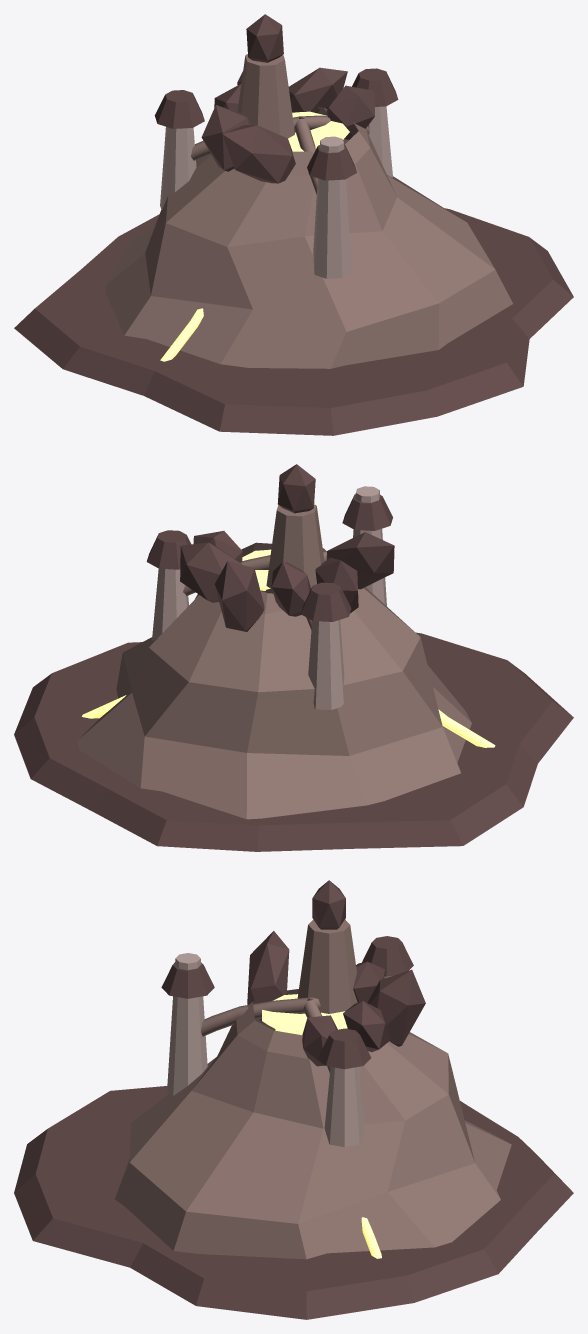
File: molten-wastes-lod2.glb
3 renders of one model, top to bottom at view 1: azimuth 30°, elevation 25°; view 2: azimuth 150°, elevation 25°; view 3: azimuth 270°, elevation 25°, orthographic. The views are drawn at different scales.
Parts seen in each view (by area): view 1: STONE_ASYMMETRIC_CALDERA, DARK_TERRAIN_SOCKET, STONE_FOUNDRY_TOWER_2, STONE_CALDERA_KEEP, DARK_JAGGED_CRATER_RIM_5, STONE_FOUNDRY_TOWER_1, DARK_JAGGED_CRATER_RIM_1, DARK_JAGGED_CRATER_RIM_0, DARK_JAGGED_CRATER_RIM_4, DARK_FOUNDRY_CROWN_1, FX_SMOKE_0, DARK_FOUNDRY_CROWN_2 (+5 smaller); view 2: STONE_ASYMMETRIC_CALDERA, DARK_TERRAIN_SOCKET, STONE_CALDERA_KEEP, STONE_FOUNDRY_TOWER_1, DARK_JAGGED_CRATER_RIM_2, DARK_JAGGED_CRATER_RIM_5, DARK_JAGGED_CRATER_RIM_1, STONE_FOUNDRY_TOWER_0, DARK_JAGGED_CRATER_RIM_3, DARK_FOUNDRY_CROWN_1, FX_SMOKE_0, DARK_FOUNDRY_CROWN_2 (+5 smaller); view 3: STONE_ASYMMETRIC_CALDERA, DARK_TERRAIN_SOCKET, STONE_CALDERA_KEEP, STONE_FOUNDRY_TOWER_2, STONE_FOUNDRY_TOWER_0, DARK_JAGGED_CRATER_RIM_2, DARK_JAGGED_CRATER_RIM_5, DARK_FOUNDRY_CROWN_0, DARK_JAGGED_CRATER_RIM_1, STONE_CRATER_BRIDGE_2, DARK_FOUNDRY_CROWN_1, FX_SMOKE_0 (+4 smaller).
Part boxes in pixels (x1=…): STONE_ASYMMETRIC_CALDERA: x1=105, y1=106, x2=512, y2=368; DARK_TERRAIN_SOCKET: x1=14, y1=208, x2=573, y2=435; STONE_FOUNDRY_TOWER_2: x1=313, y1=136, x2=351, y2=278; STONE_CALDERA_KEEP: x1=237, y1=54, x2=294, y2=138; DARK_JAGGED_CRATER_RIM_5: x1=222, y1=125, x2=295, y2=183; STONE_FOUNDRY_TOWER_1: x1=160, y1=127, x2=196, y2=209; DARK_JAGGED_CRATER_RIM_1: x1=288, y1=67, x2=347, y2=113; DARK_JAGGED_CRATER_RIM_0: x1=326, y1=85, x2=374, y2=139; DARK_JAGGED_CRATER_RIM_4: x1=201, y1=105, x2=251, y2=171; DARK_FOUNDRY_CROWN_1: x1=154, y1=90, x2=204, y2=128; FX_SMOKE_0: x1=246, y1=14, x2=283, y2=62; DARK_FOUNDRY_CROWN_2: x1=307, y1=144, x2=356, y2=180; STONE_ASYMMETRIC_CALDERA: x1=77, y1=542, x2=471, y2=819; DARK_TERRAIN_SOCKET: x1=14, y1=632, x2=573, y2=851; STONE_CALDERA_KEEP: x1=265, y1=504, x2=324, y2=593; STONE_FOUNDRY_TOWER_1: x1=308, y1=620, x2=344, y2=709; DARK_JAGGED_CRATER_RIM_2: x1=214, y1=561, x2=264, y2=631; DARK_JAGGED_CRATER_RIM_5: x1=326, y1=532, x2=394, y2=589; DARK_JAGGED_CRATER_RIM_1: x1=180, y1=542, x2=242, y2=602; STONE_FOUNDRY_TOWER_0: x1=152, y1=568, x2=188, y2=640; DARK_JAGGED_CRATER_RIM_3: x1=271, y1=562, x2=311, y2=616; DARK_FOUNDRY_CROWN_1: x1=301, y1=582, x2=351, y2=621; FX_SMOKE_0: x1=277, y1=464, x2=315, y2=513; DARK_FOUNDRY_CROWN_2: x1=342, y1=494, x2=392, y2=530; STONE_ASYMMETRIC_CALDERA: x1=115, y1=989, x2=511, y2=1259; DARK_TERRAIN_SOCKET: x1=14, y1=1086, x2=573, y2=1319; STONE_CALDERA_KEEP: x1=297, y1=919, x2=357, y2=1013; STONE_FOUNDRY_TOWER_2: x1=167, y1=953, x2=207, y2=1096; STONE_FOUNDRY_TOWER_0: x1=324, y1=1067, x2=364, y2=1147; DARK_JAGGED_CRATER_RIM_2: x1=367, y1=969, x2=425, y2=1046; DARK_JAGGED_CRATER_RIM_5: x1=247, y1=931, x2=289, y2=1022; DARK_FOUNDRY_CROWN_0: x1=318, y1=1028, x2=371, y2=1069; DARK_JAGGED_CRATER_RIM_1: x1=343, y1=1001, x2=390, y2=1052; STONE_CRATER_BRIDGE_2: x1=201, y1=997, x2=310, y2=1036; DARK_FOUNDRY_CROWN_1: x1=362, y1=936, x2=413, y2=976; FX_SMOKE_0: x1=312, y1=880, x2=345, y2=929.
Bounding box in the file's own units: 2.05 × 1.19 × 1.99.
